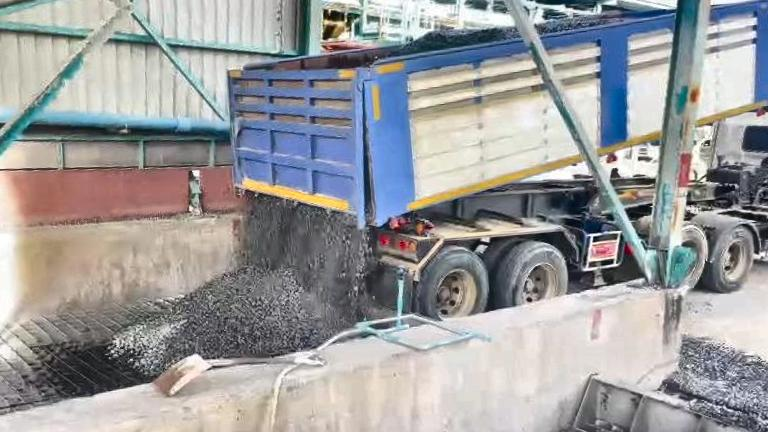gravel: (108, 195, 369, 376), (663, 337, 768, 432), (388, 26, 520, 56), (535, 13, 624, 34)
